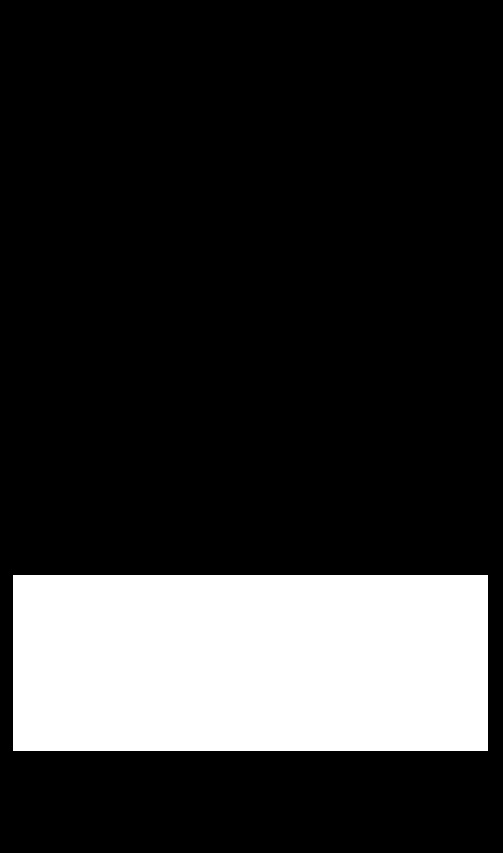table: (13, 575, 487, 750)
